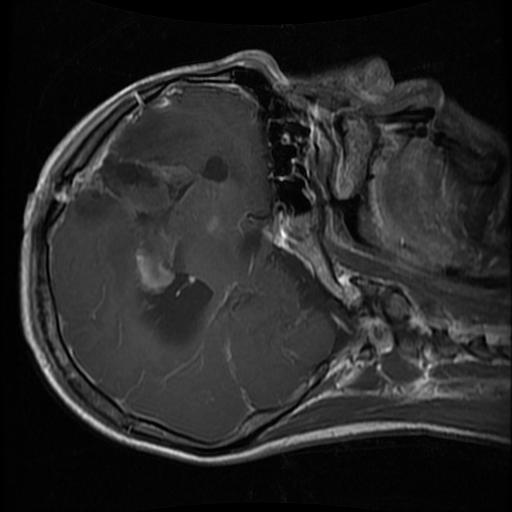glioma: (71, 154, 229, 350)
